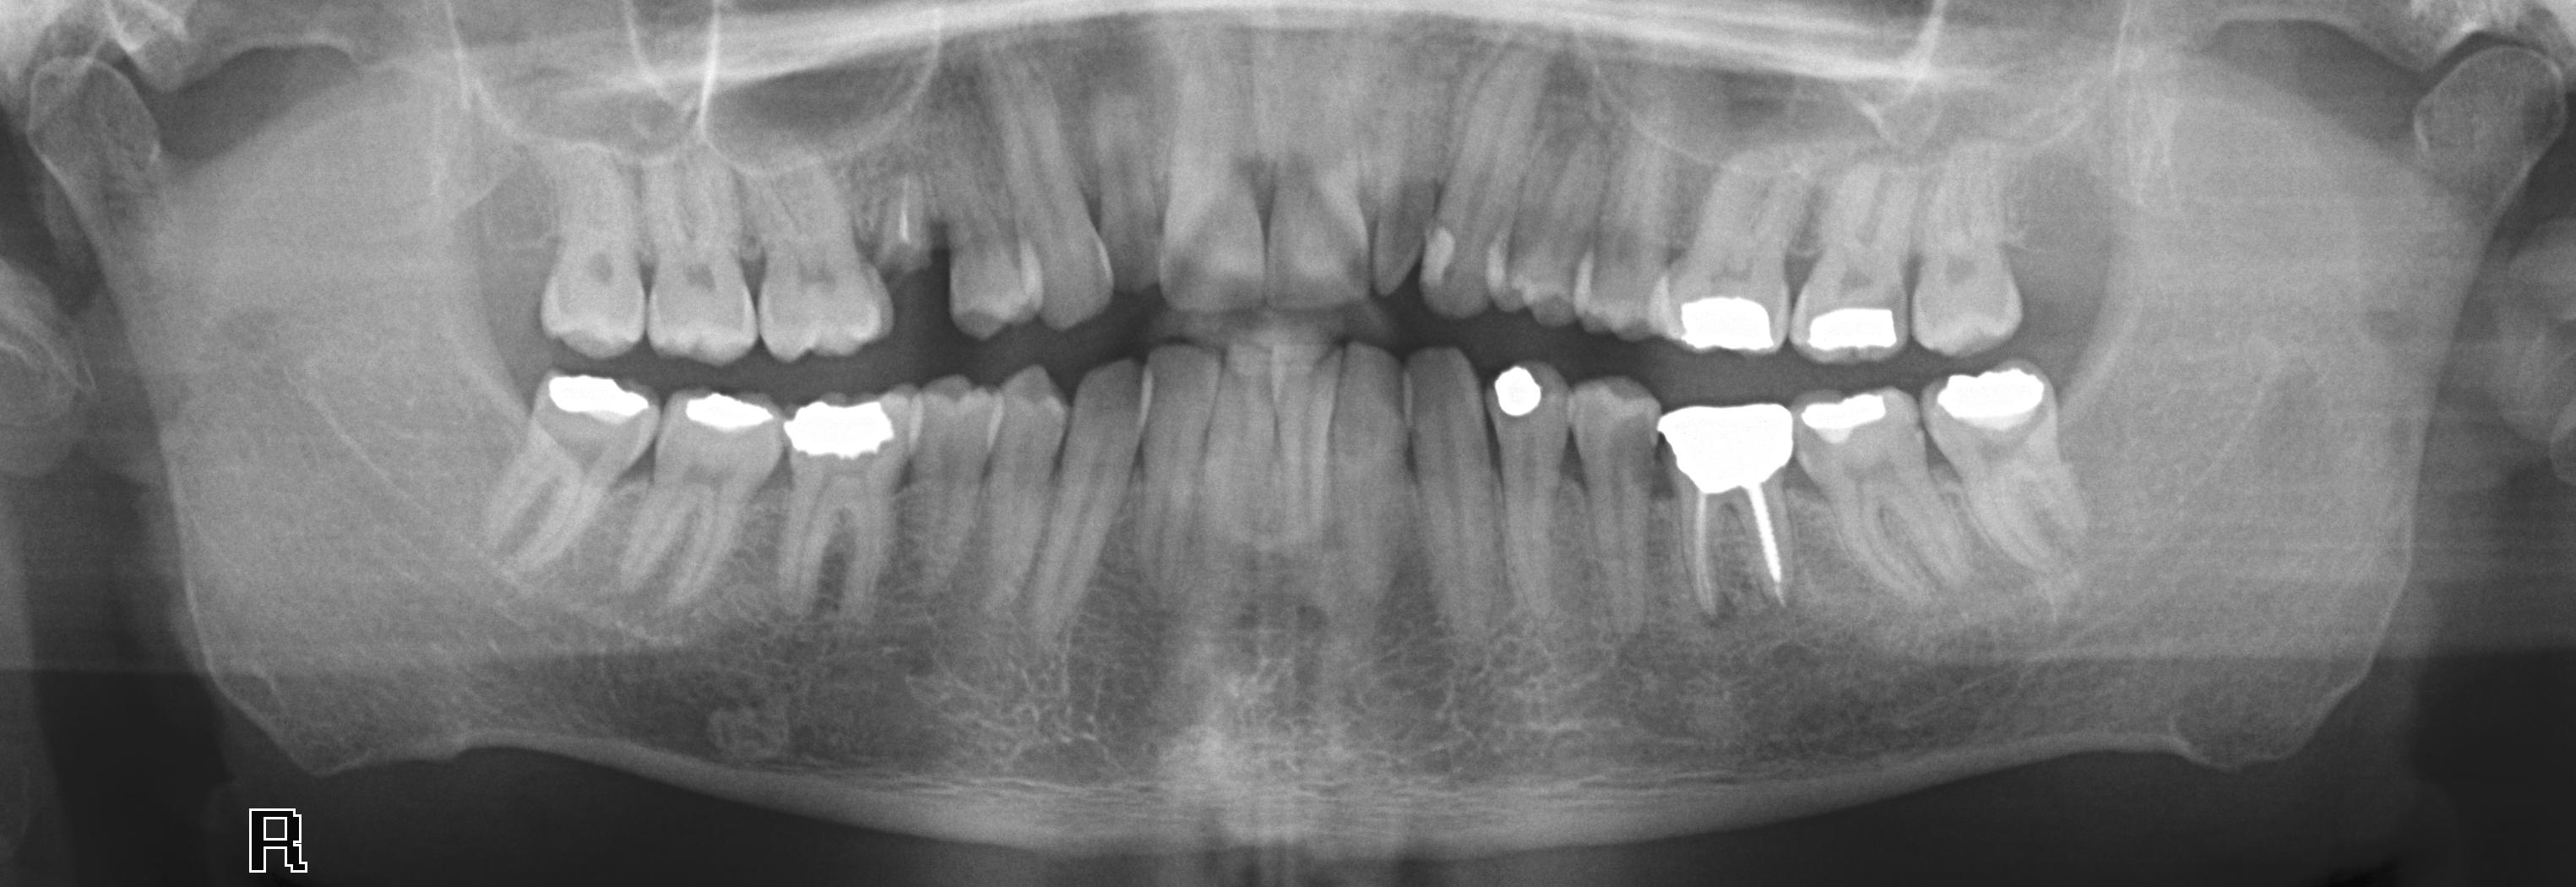Çürük: (1651, 391, 1805, 499), (775, 381, 904, 475), (1663, 281, 1789, 363), (1927, 353, 2070, 422), (532, 360, 660, 430), (1796, 375, 1916, 447), (1787, 297, 1912, 360), (683, 375, 777, 452), (1483, 348, 1551, 427)
Çürük Bölgesi: (544, 393, 641, 455), (1942, 402, 2060, 447), (1886, 276, 1920, 350), (1533, 360, 1559, 414)
